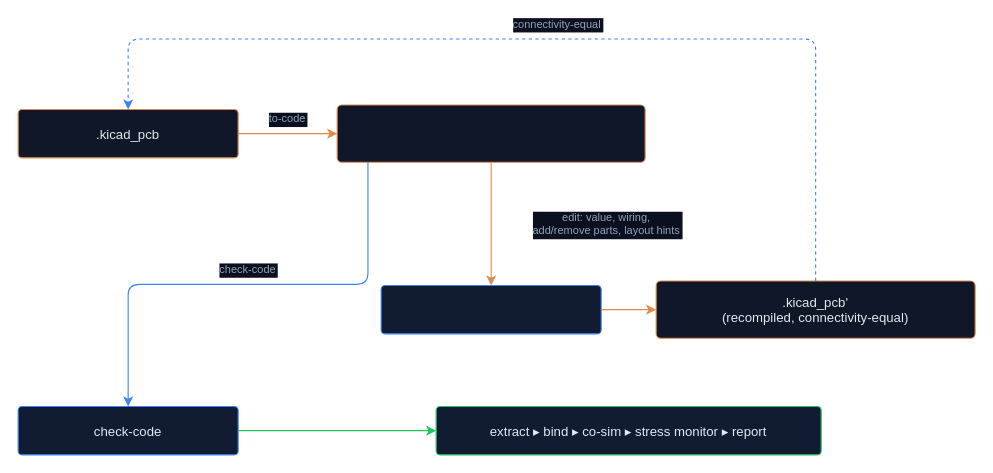
This 993x473 diagram has some shape labels left out. Here are the shapes that lost their labels. From the top down, the box of each, then its label:
(336, 104, 645, 162): board.board (editable text)
(380, 284, 601, 334): from-code
